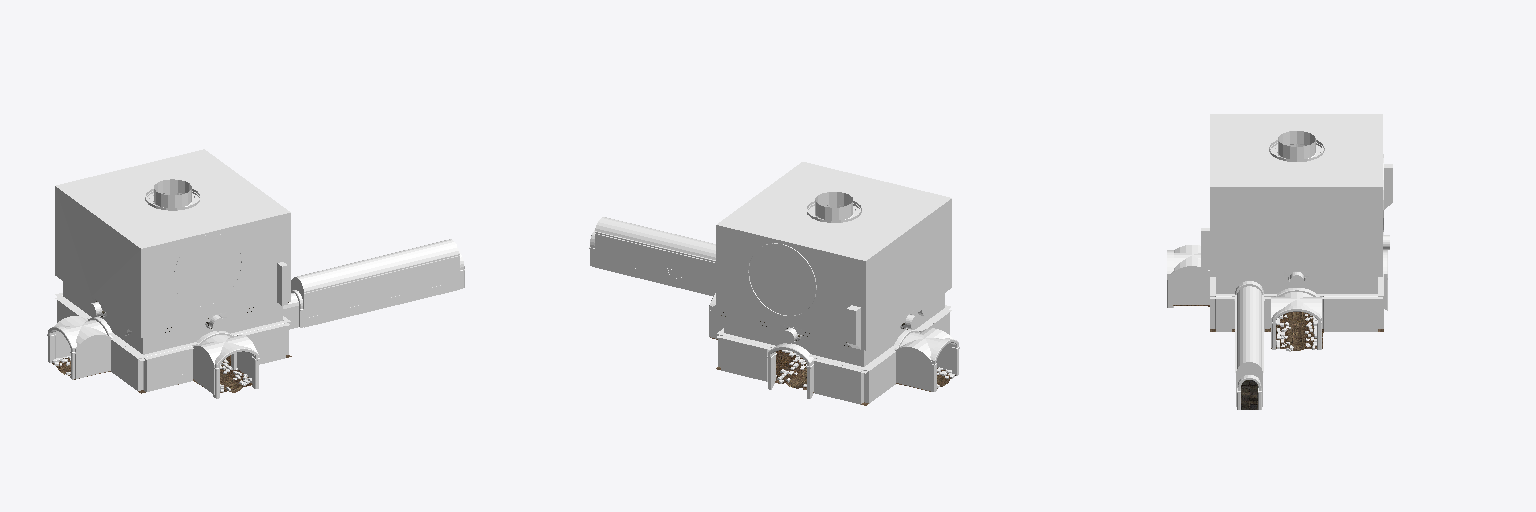
The picture shows the model from 3 angles: view 1: azimuth 30°, elevation 25°; view 2: azimuth 150°, elevation 25°; view 3: azimuth 270°, elevation 25°; orthographic projection.
Parts seen in each view (by area): view 1: mesh8, mesh3, mesh6, mesh5, mesh4; view 2: mesh8, mesh3, mesh6, mesh5, mesh4; view 3: mesh8, mesh3, mesh6, mesh4, mesh5, mesh13.
Boxes of the visible parts, box(x1,y1,x2,y2) form: mesh8: box(54, 149, 459, 394); mesh3: box(89, 179, 241, 331); mesh6: box(47, 252, 464, 370); mesh5: box(48, 193, 464, 398); mesh4: box(55, 253, 459, 374); mesh8: box(595, 162, 952, 404); mesh3: box(748, 192, 917, 343); mesh6: box(589, 230, 959, 368); mesh5: box(590, 205, 958, 398); mesh4: box(594, 231, 951, 373); mesh8: box(1170, 114, 1392, 406); mesh3: box(1269, 131, 1389, 287); mesh6: box(1167, 250, 1387, 392); mesh4: box(1210, 277, 1382, 372); mesh5: box(1167, 144, 1387, 409); mesh13: box(1288, 312, 1304, 350).
Size of the model in its own units: 36.25 by 14.87 by 18.96.
Materials: 15 (6 with a texture image).